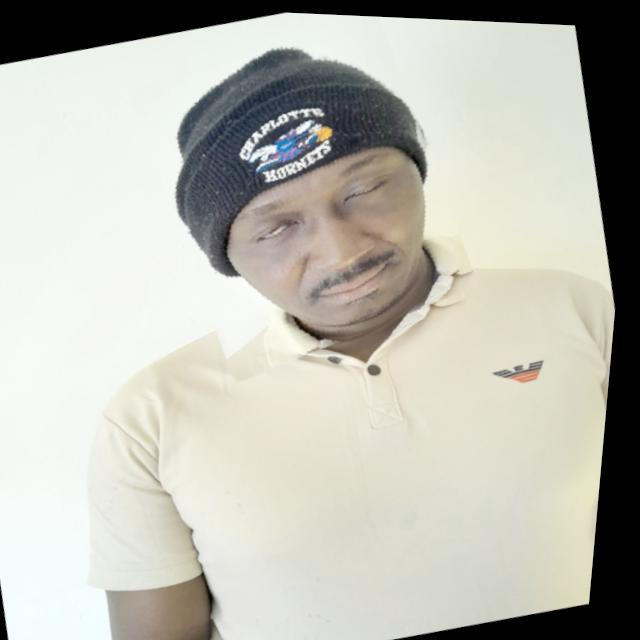sad: (114, 5, 496, 388)
